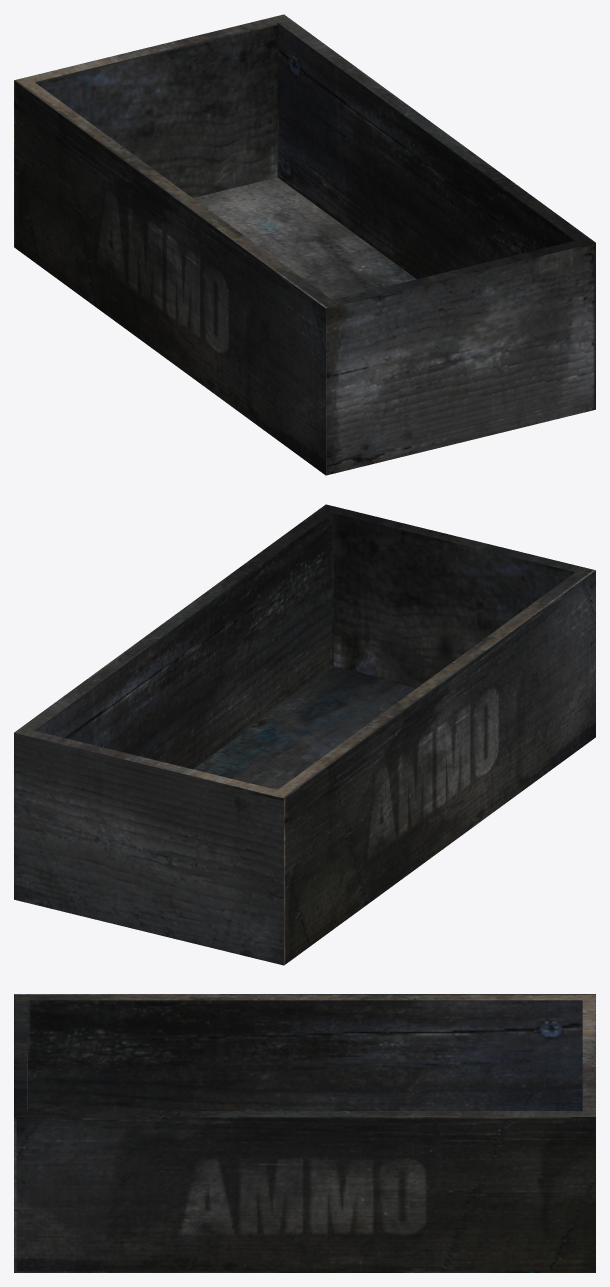
Rendered from Crate.fbx.
The picture shows the model from 3 angles, top to bottom: view 1: azimuth 30°, elevation 25°; view 2: azimuth 150°, elevation 25°; view 3: azimuth 270°, elevation 25°; orthographic projection. The views are drawn at different scales.
Parts seen in each view (by area): view 1: Crate; view 2: Crate; view 3: Crate.
Boxes of the visible parts, x1,y1,x2,y2 form: Crate: (14,14,595,475); Crate: (14,504,595,965); Crate: (14,994,595,1272).
Size of the model in its own units: 1 by 0.5908 by 2.
Materials: 1 (1 with a texture image).
